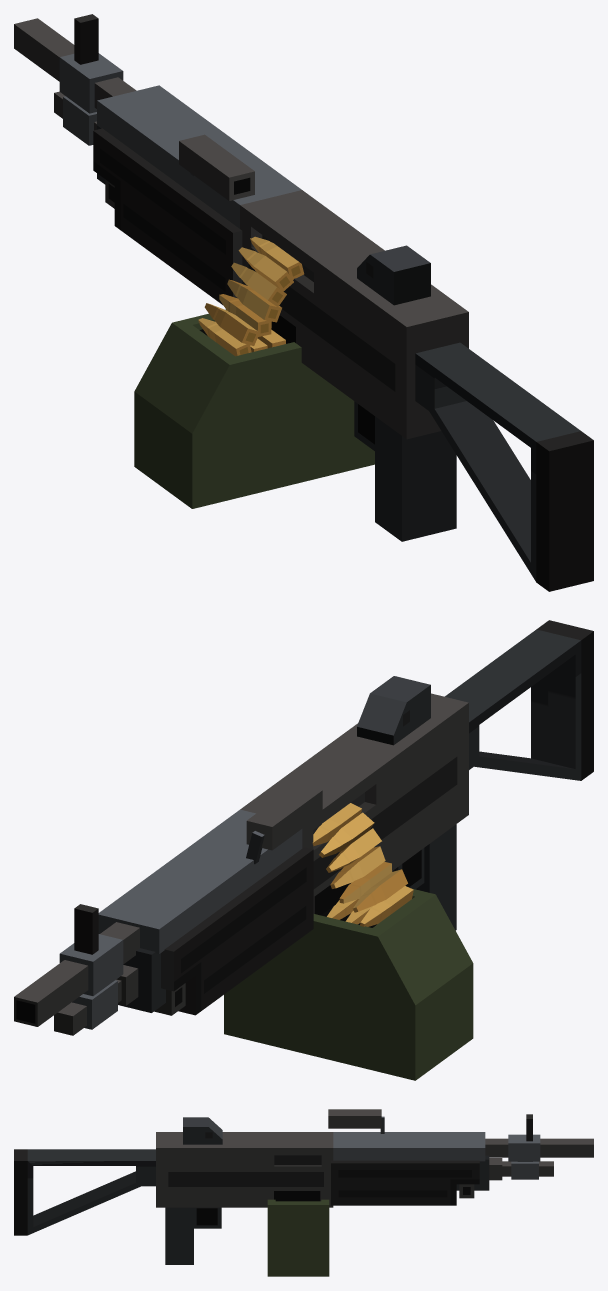
Rendered from Wep_MachineGun.fbx.
3 views of the same model, one above another, from view 1: azimuth 30°, elevation 25°; view 2: azimuth 150°, elevation 25°; view 3: azimuth 270°, elevation 25° (orthographic). The views are drawn at different scales.
Parts seen in each view (by area): view 1: Wep_MachineGun; view 2: Wep_MachineGun; view 3: Wep_MachineGun.
Boxes of the visible parts, x1,y1,x2,y2 form: Wep_MachineGun: [14, 14, 593, 591]; Wep_MachineGun: [14, 620, 593, 1080]; Wep_MachineGun: [14, 1109, 593, 1276].
Bounding box in the file's own units: 92.47 × 127 × 457.
